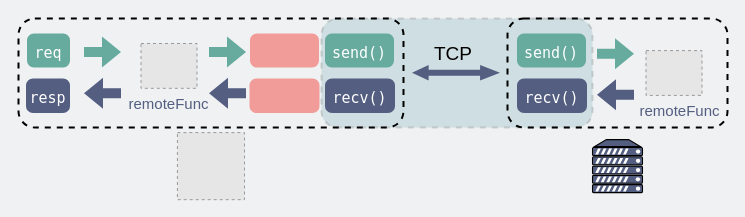
This 745x217 diagram has some shape labels left out. Grey dashed boxes stand in for pictures. The shapes that lost their labels are listed below. From the top down, each one's centre as x and y in pixels, then its label:
At point (284, 50): "序列化".
At point (284, 95): "反序列化".
